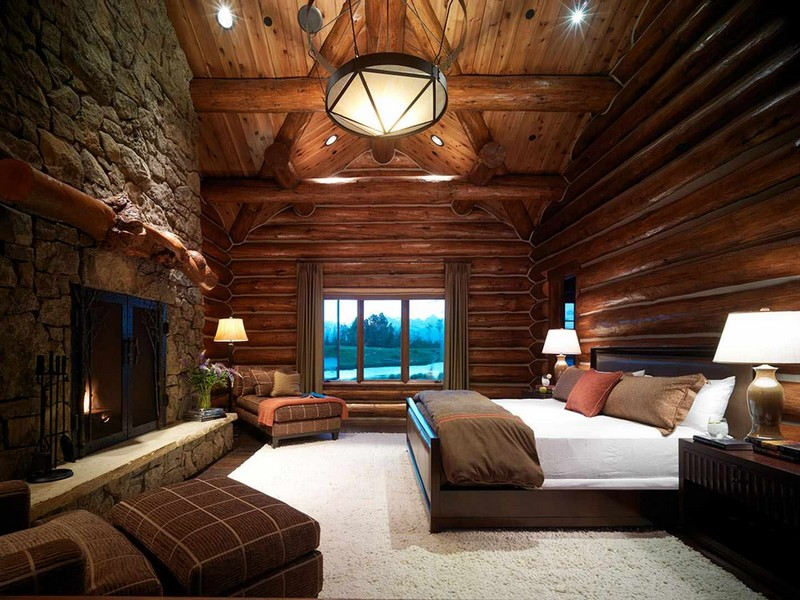bed: (410, 346, 731, 540)
lamp: (716, 299, 800, 459), (541, 325, 586, 389), (212, 312, 249, 372)
sofa: (233, 365, 345, 447)
